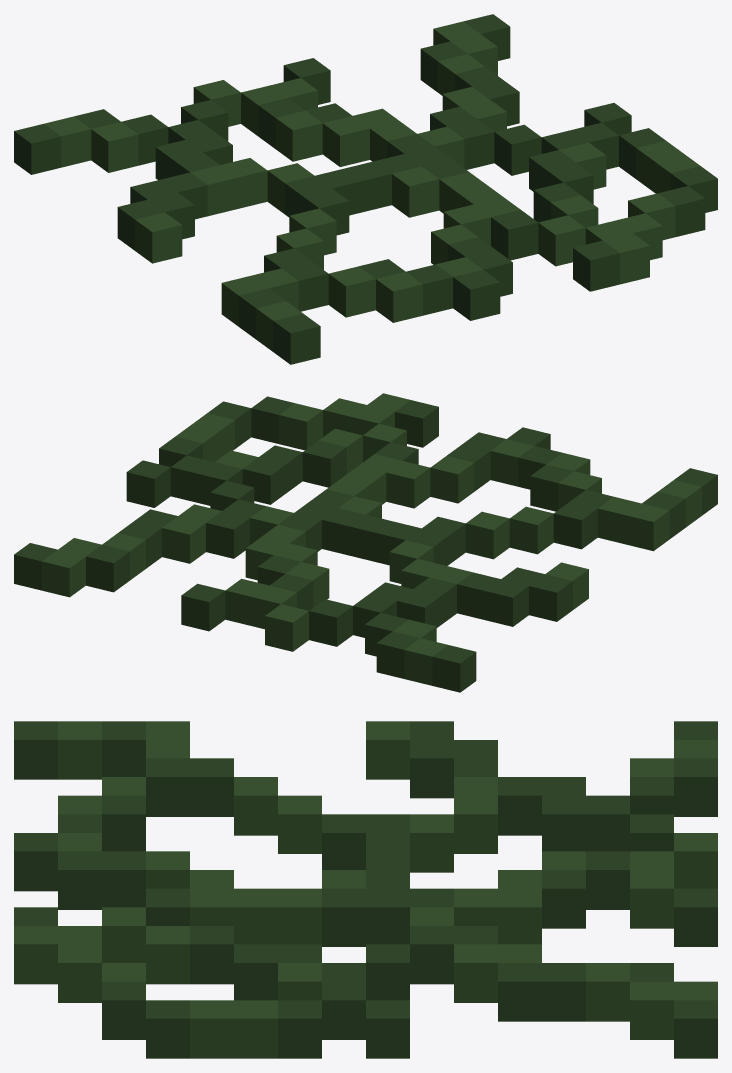
File: tile_floor_wines.gltf
3 renders of one model, top to bottom at view 1: azimuth 30°, elevation 25°; view 2: azimuth 150°, elevation 25°; view 3: azimuth 270°, elevation 25°, orthographic. The views are drawn at different scales.
Visible parts, largest first — view 1: tile_floor_wines; view 2: tile_floor_wines; view 3: tile_floor_wines.
Boxes of the visible parts, x1,y1,x2,y2 form: tile_floor_wines: [14, 14, 717, 364]; tile_floor_wines: [14, 393, 717, 692]; tile_floor_wines: [14, 721, 717, 1058].
Size of the model in its own units: 1.6 by 0.1 by 1.6.
1 material, 1 textured.
